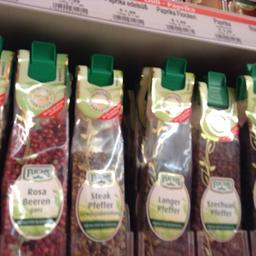spices: (2, 47, 68, 255), (70, 63, 130, 255), (138, 66, 193, 255), (194, 78, 244, 255)
